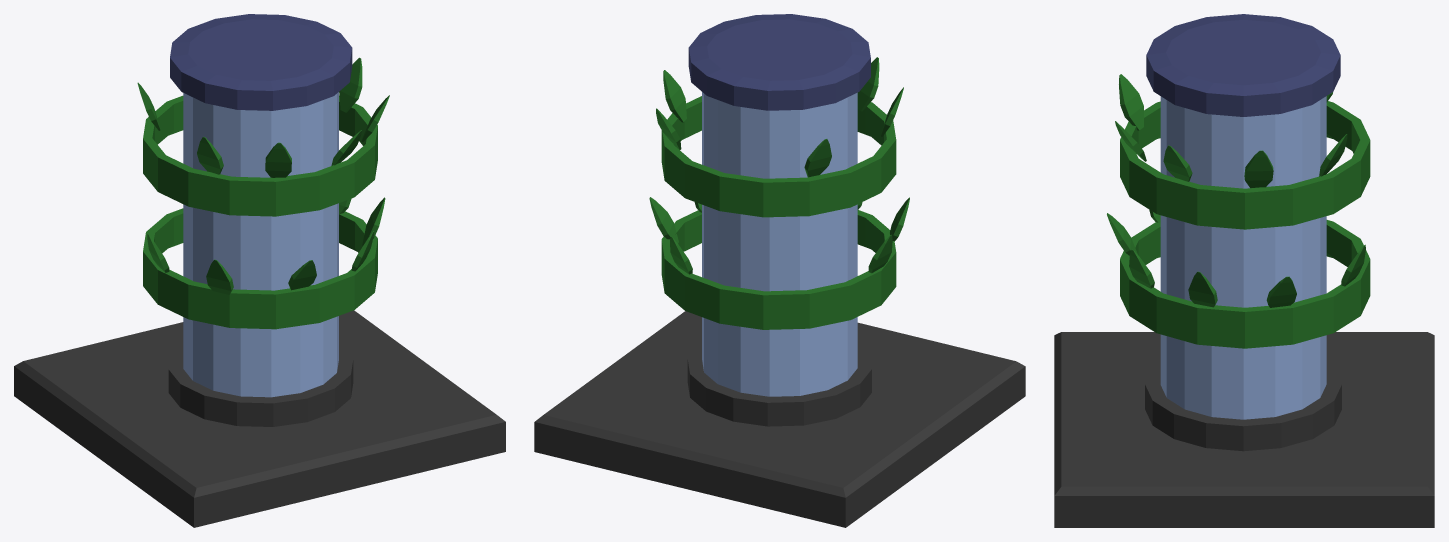
File: AeroponicTower.glb
3 renders of one model, left to right at view 1: azimuth 30°, elevation 25°; view 2: azimuth 150°, elevation 25°; view 3: azimuth 270°, elevation 25°, orthographic. The views are drawn at different scales.
Visible parts, largest first — view 1: Cylinder.004; view 2: Cylinder.004; view 3: Cylinder.004.
Boxes of the visible parts, bbox=[...] form: Cylinder.004: bbox=[14, 14, 505, 527]; Cylinder.004: bbox=[534, 14, 1025, 527]; Cylinder.004: bbox=[1054, 14, 1434, 527].
Bounding box in the file's own units: 1.74 × 1.99 × 1.74.
